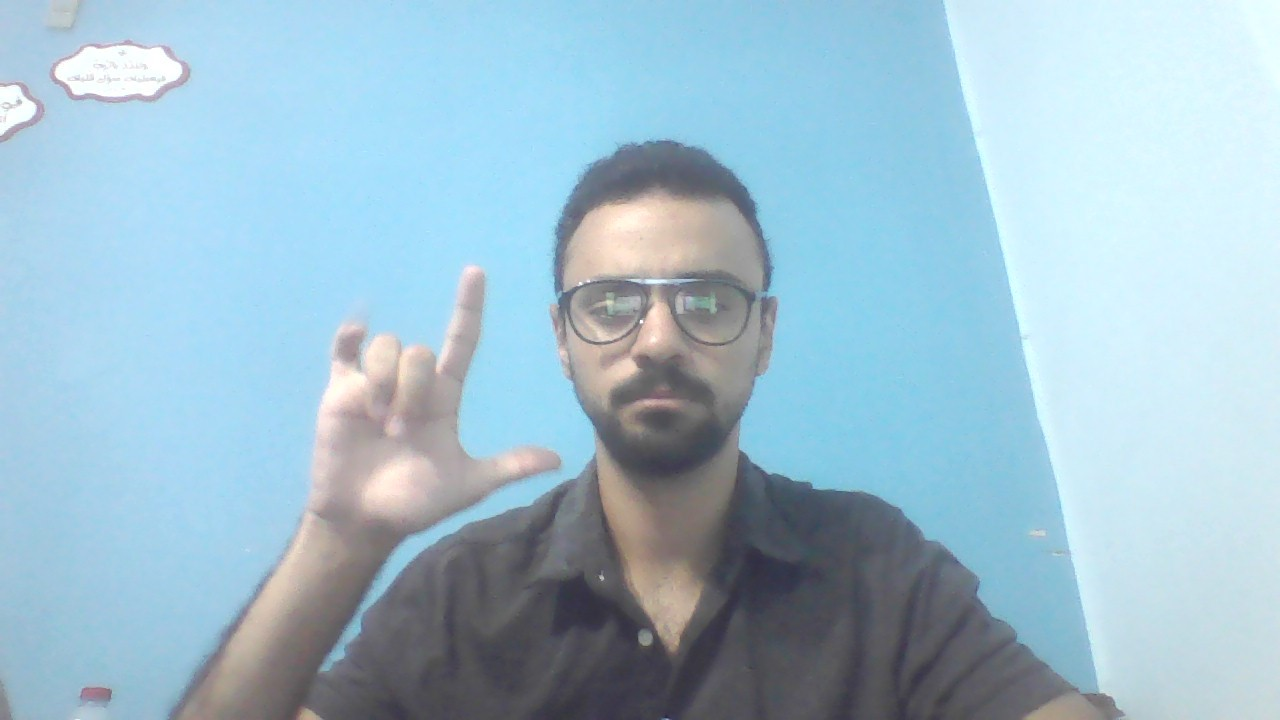love: (312, 255, 561, 529)
